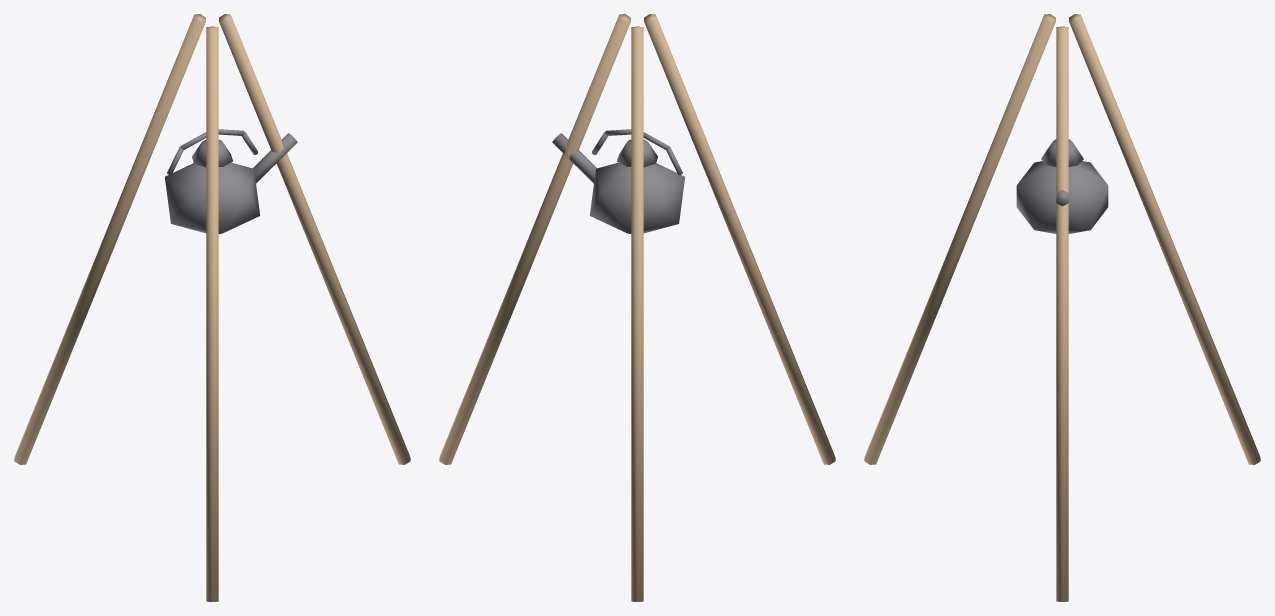
The model's file is tripod_kettle.glb.
The picture shows the model from 3 angles, left to right: view 1: azimuth 30°, elevation 25°; view 2: azimuth 150°, elevation 25°; view 3: azimuth 270°, elevation 25°; orthographic projection.
Parts seen in each view (by area): view 1: tripod_kettle; view 2: tripod_kettle; view 3: tripod_kettle.
Boxes of the visible parts, <box> form: tripod_kettle: <box>14,14,410,601</box>; tripod_kettle: <box>439,14,835,601</box>; tripod_kettle: <box>864,14,1260,601</box>.
Size of the model in its own units: 0.9683 by 1.51 by 1.11.
